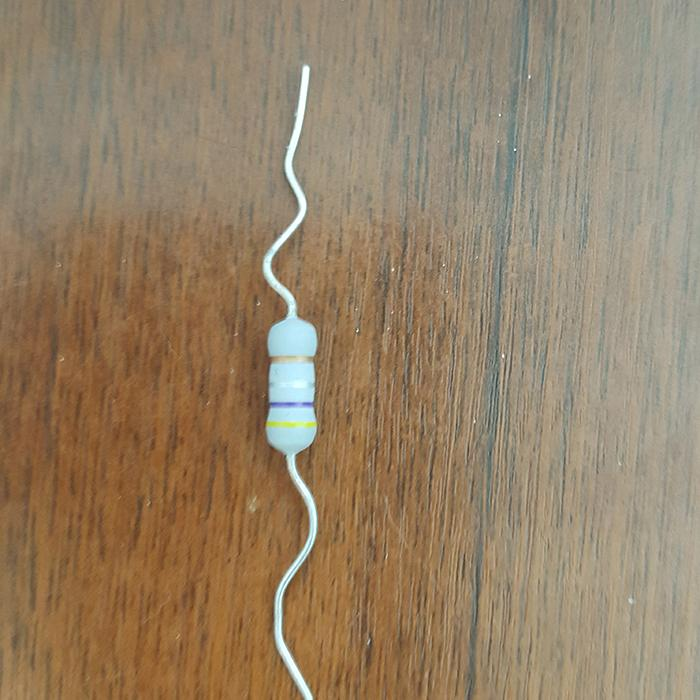resistor: (264, 313, 320, 453)
